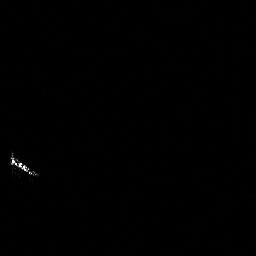ship: (7, 151, 42, 179)
